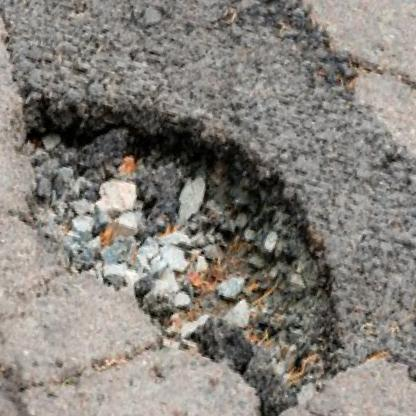pothole: (0, 56, 406, 416)
